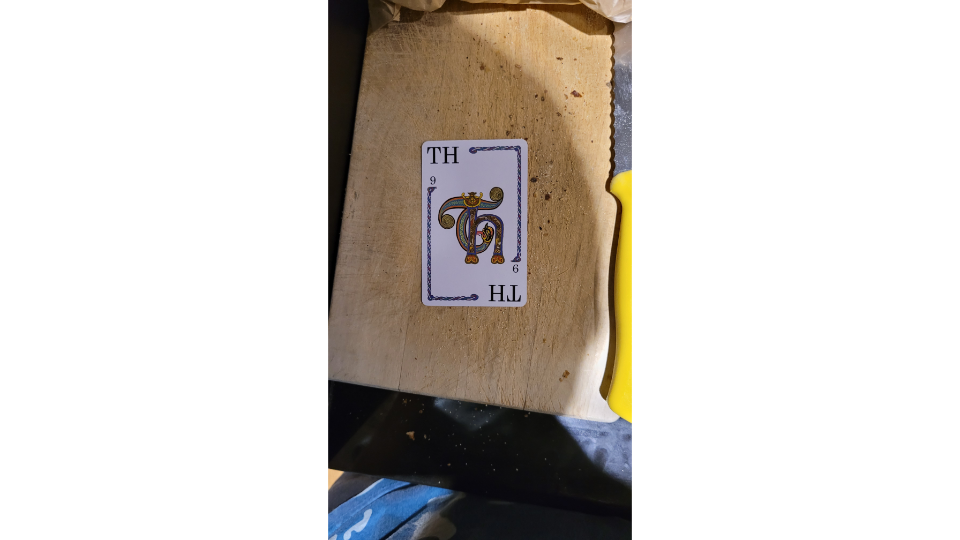TH: (417, 136, 533, 310)
